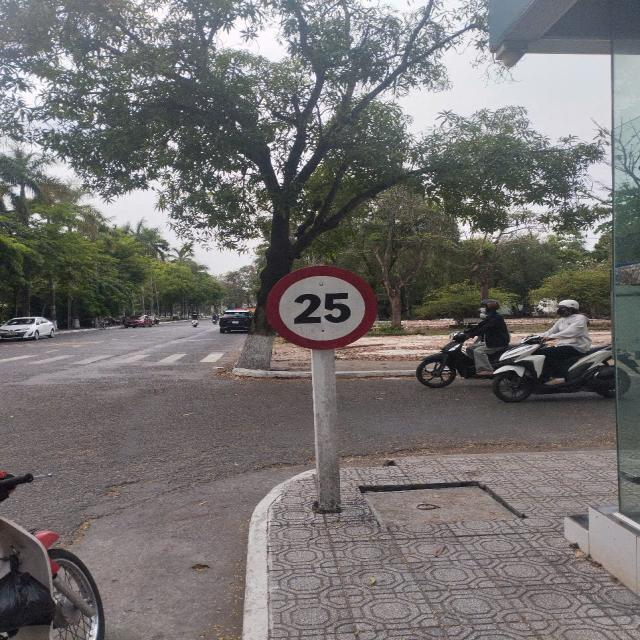Tre_Em: (264, 265, 380, 349)
